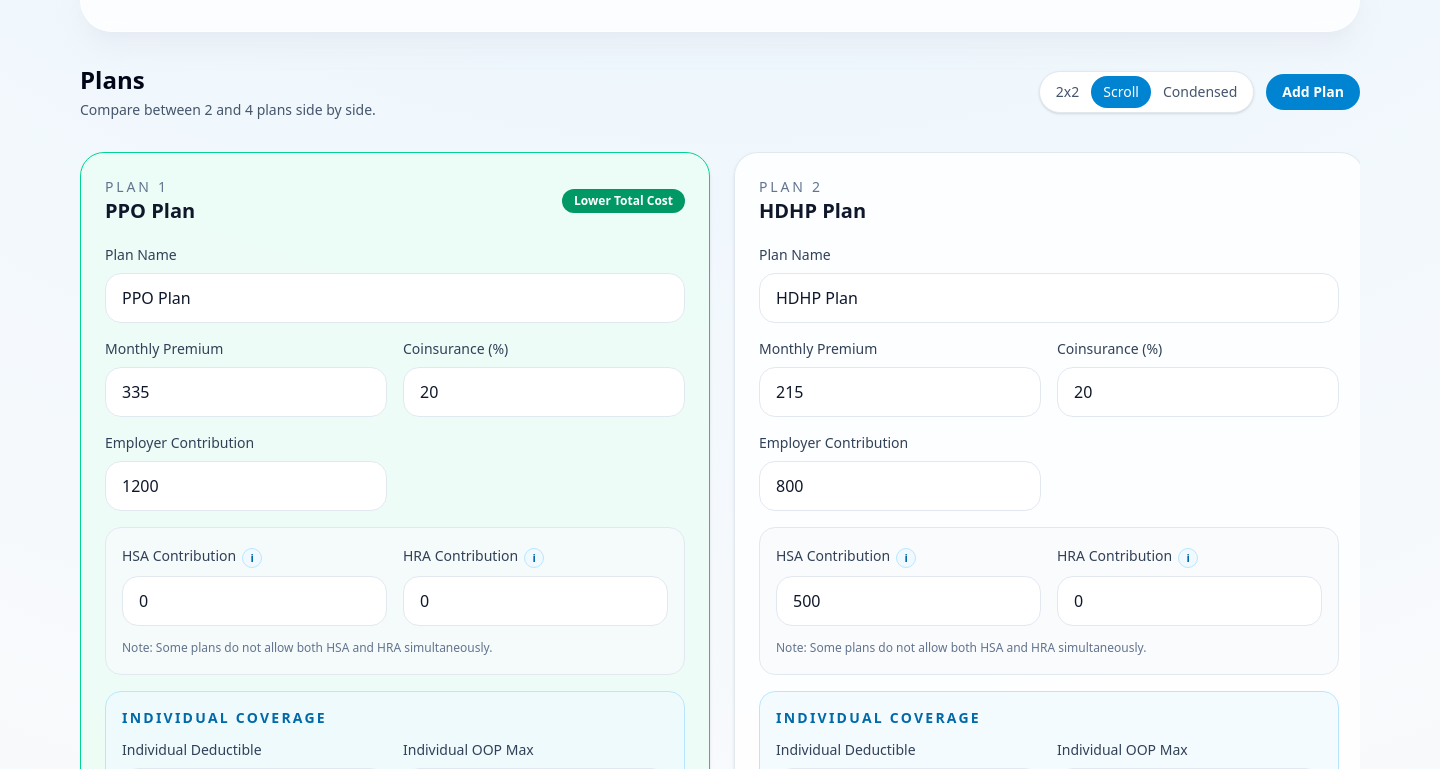
Test case: App integration › shows decimal annual cost values in the comparison cards
The image size is (1440, 769).
(page scrolled)
Step 1. Replace the text in the number field labelled "Monthly Premium" below "Lower Total Cost" with "123.45" → (246, 392), box [105,367,387,417]
(page scrolled)
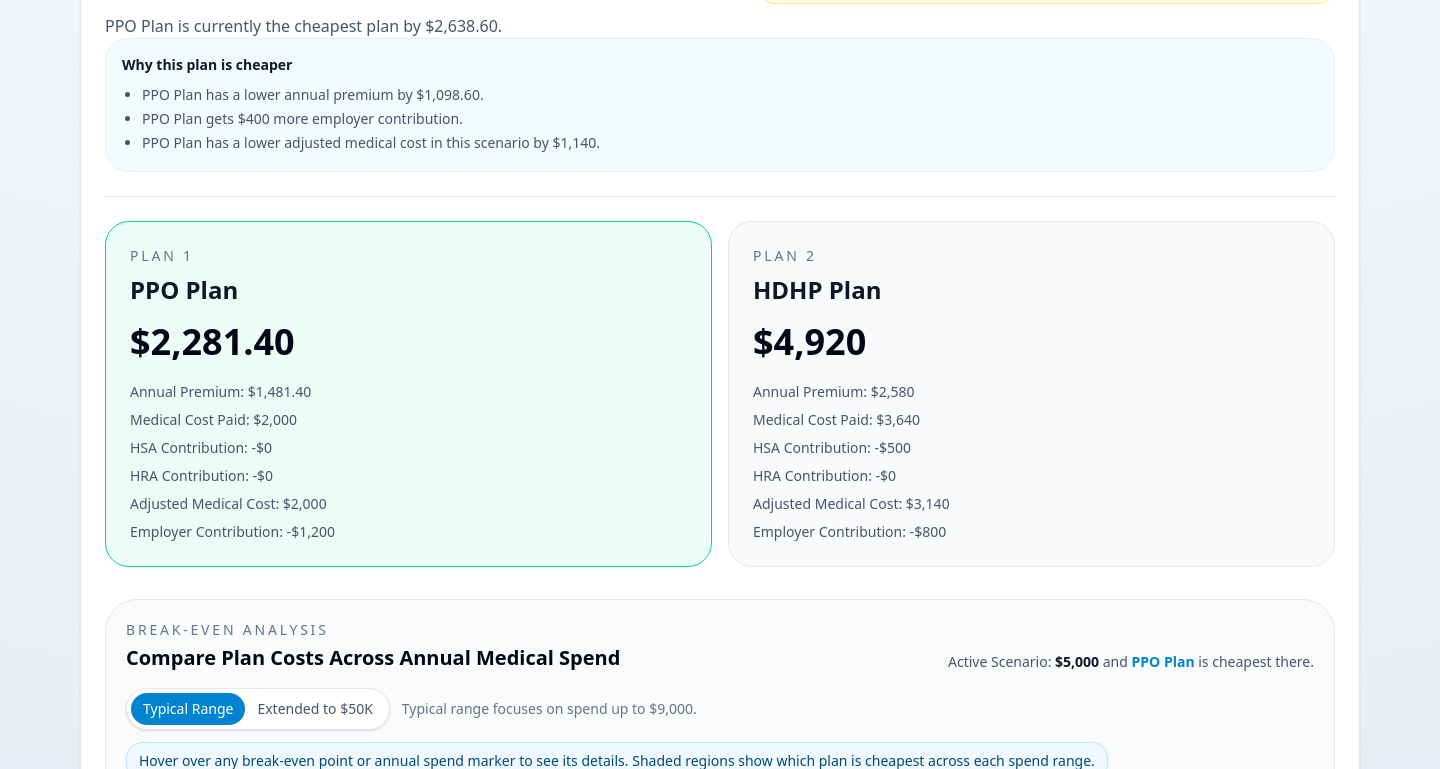
Expected: the text "$2,281.40" is shown, [130,317,295,366]
Expected: the text "Annual Premium: $1,481.40" is shown, [130,382,311,401]
